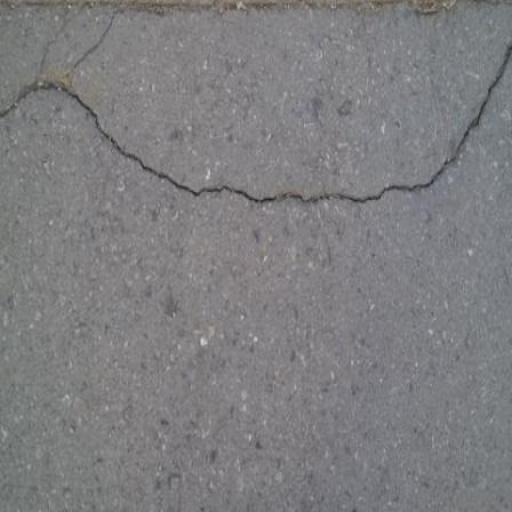spalling: (7, 35, 512, 221)
